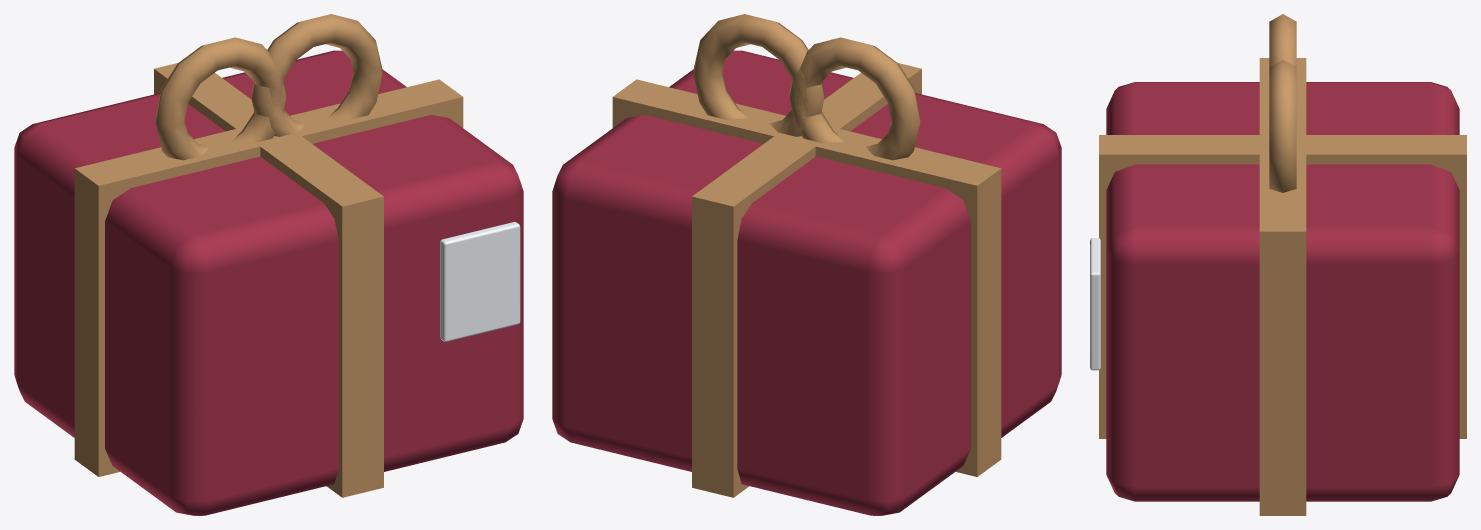
File: alpine-snow-village-ribbon-wrapped-winter-parcel-6a75d909__19843.glb
3 renders of one model, left to right at view 1: azimuth 30°, elevation 25°; view 2: azimuth 150°, elevation 25°; view 3: azimuth 270°, elevation 25°, orthographic. The views are drawn at different scales.
Parts seen in each view (by area): view 1: ribbon-wrapped-winter-parcel-berry, ribbon-wrapped-winter-parcel-oak, ribbon-wrapped-winter-parcel-snow; view 2: ribbon-wrapped-winter-parcel-berry, ribbon-wrapped-winter-parcel-oak; view 3: ribbon-wrapped-winter-parcel-berry, ribbon-wrapped-winter-parcel-oak, ribbon-wrapped-winter-parcel-snow.
Boxes of the visible parts, left/top/right/bottom form: ribbon-wrapped-winter-parcel-berry: left=14, top=50, right=523, bottom=515; ribbon-wrapped-winter-parcel-oak: left=74, top=14, right=463, bottom=497; ribbon-wrapped-winter-parcel-snow: left=440, top=222, right=520, bottom=341; ribbon-wrapped-winter-parcel-berry: left=552, top=50, right=1061, bottom=515; ribbon-wrapped-winter-parcel-oak: left=612, top=14, right=1001, bottom=497; ribbon-wrapped-winter-parcel-berry: left=1106, top=82, right=1459, bottom=501; ribbon-wrapped-winter-parcel-oak: left=1099, top=14, right=1466, bottom=515; ribbon-wrapped-winter-parcel-snow: left=1090, top=238, right=1100, bottom=370.
Bounding box in the file's own units: 0.57 × 0.5895 × 0.5225.
